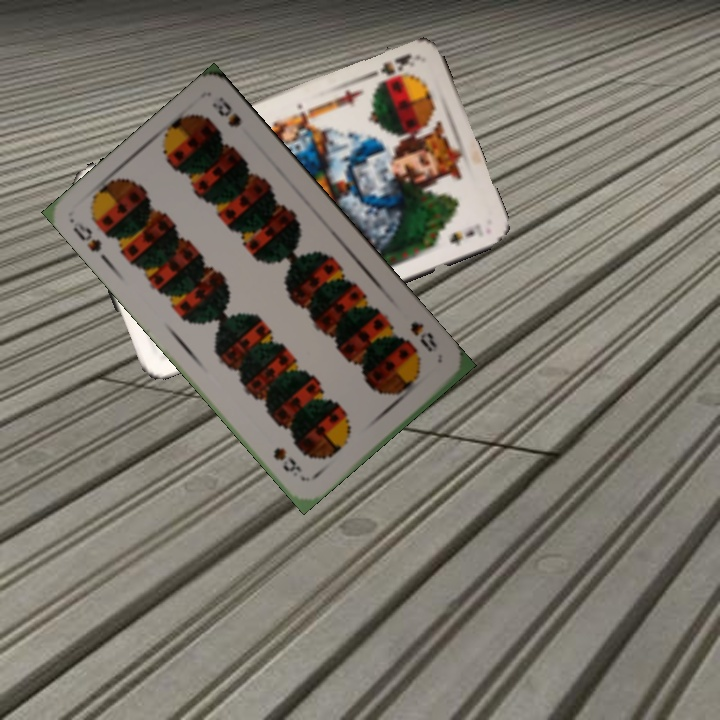S8: (68, 217, 105, 255), (406, 317, 440, 355)
SK: (359, 49, 414, 83)
